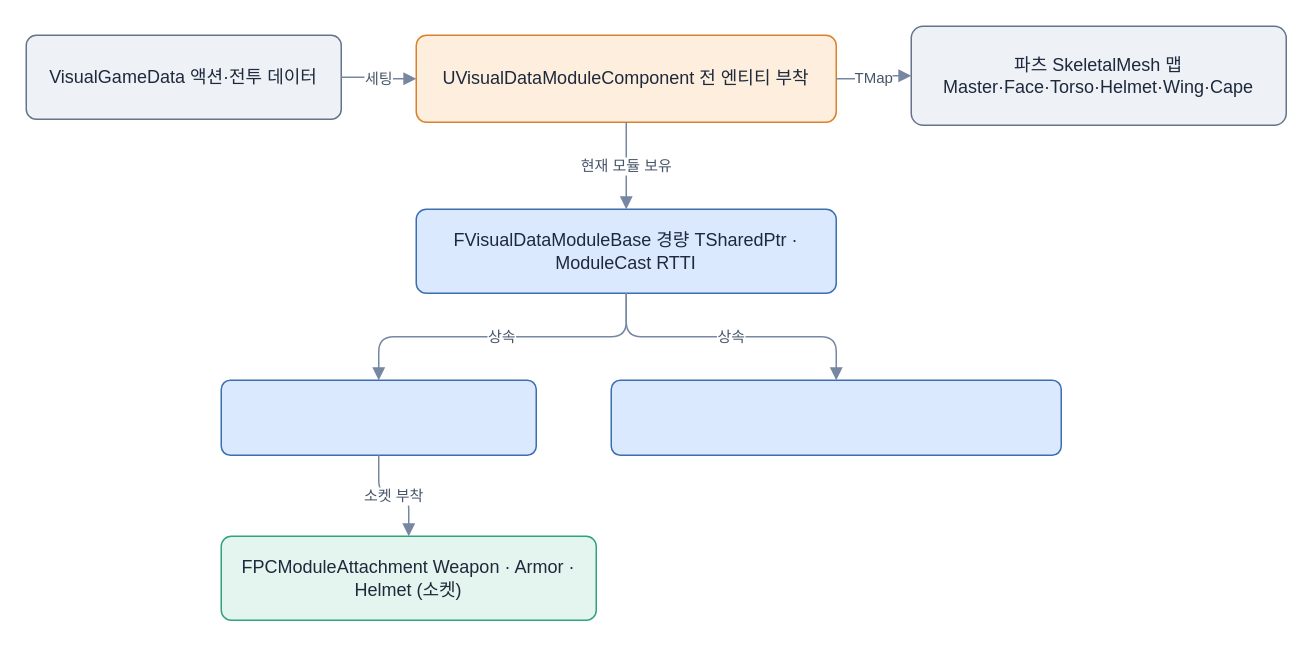
Image size: 1313x647. Some labels were removed from this diagram. Here are the shapes that lost their labels. From the top down, the centre of each, then its label:
At point 378,417: "FVisualDataModulePC".
At point 835,417: "NPC · Spirit · Item · FieldObject · Totem 모듈".
